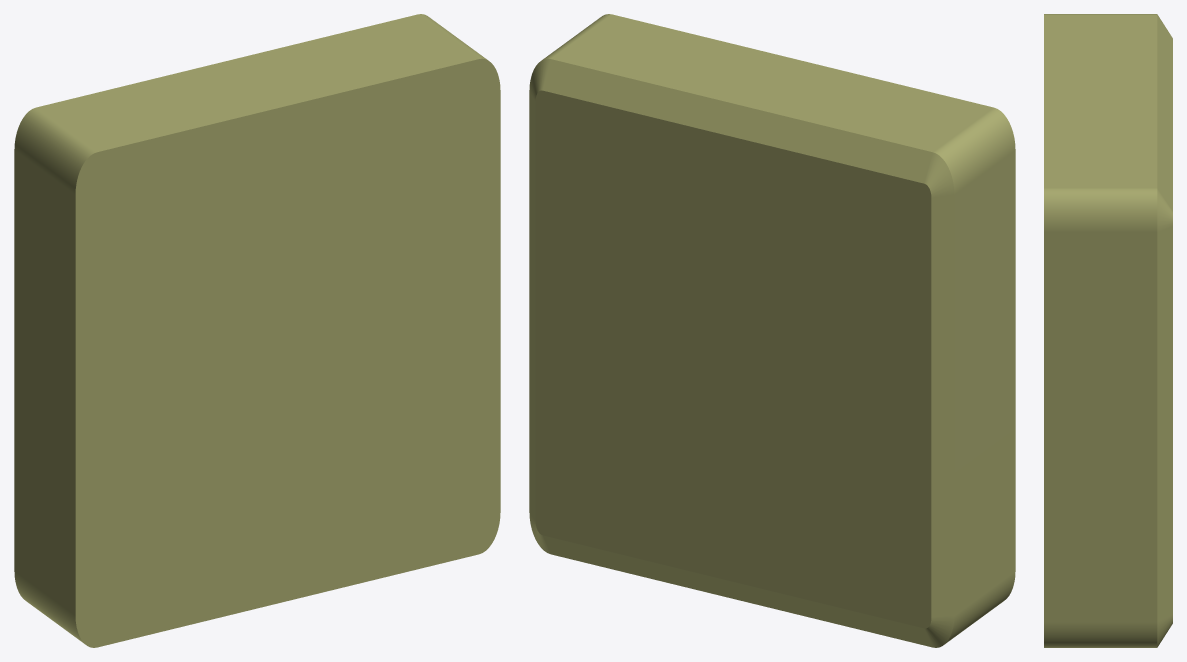
The model's file is ElevatorButton.fbx.
3 renders of one model, left to right at view 1: azimuth 30°, elevation 25°; view 2: azimuth 150°, elevation 25°; view 3: azimuth 270°, elevation 25°, orthographic. The views are drawn at different scales.
Parts seen in each view (by area): view 1: pCube19; view 2: pCube19; view 3: pCube19.
Boxes of the visible parts, box(x1,y1,x2,y2) form: pCube19: box(14, 14, 500, 647); pCube19: box(529, 14, 1015, 647); pCube19: box(1044, 14, 1172, 647).
Bounding box in the file's own units: 0.2763 × 0.3077 × 0.0783.
